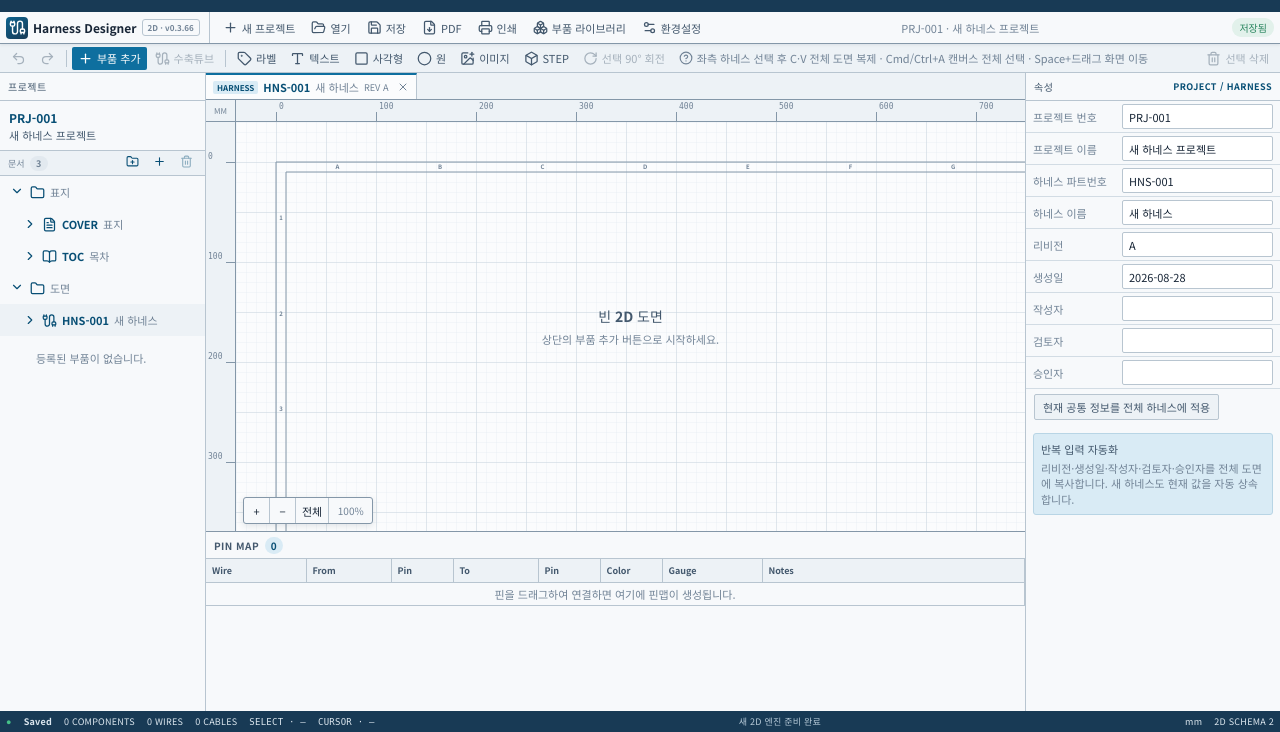
Test case: 새 2D 편집 화면 › 좌측 추가 버튼으로 새 빈 하네스 도면을 생성하고 활성화한다
Click the button named "새 하네스 도면 생성". click: (159, 163)
box: [148,153,170,173]
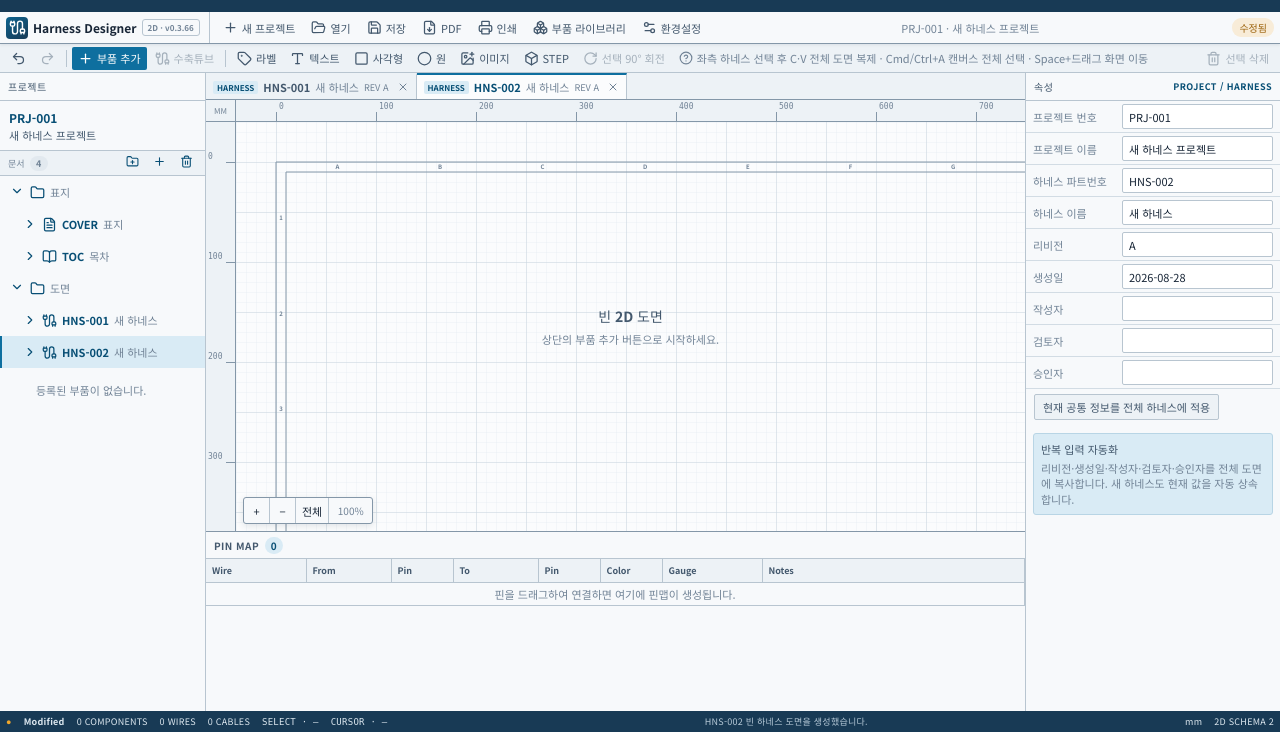
Check: the text "빈 2D 도면" is shown, box [598,306,663,326]
Check: the text "HNS-002 빈 하네스 도면을 생성했습니다." is shown, box [705,715,868,728]
